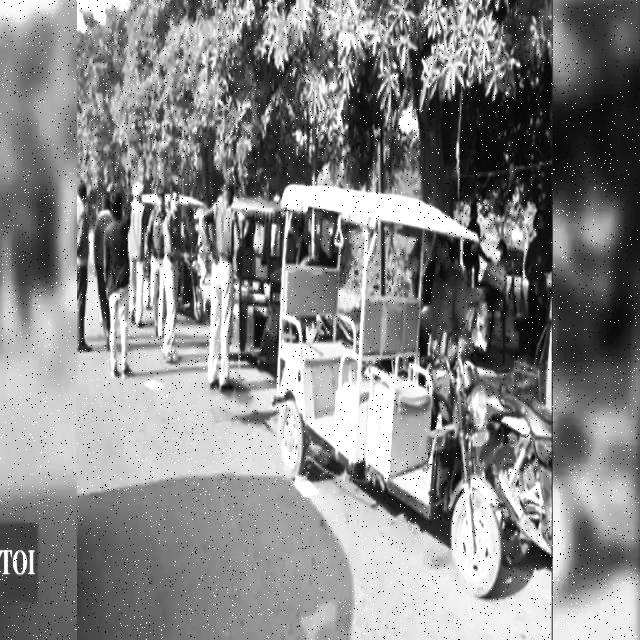Toto: (277, 181, 502, 599)
